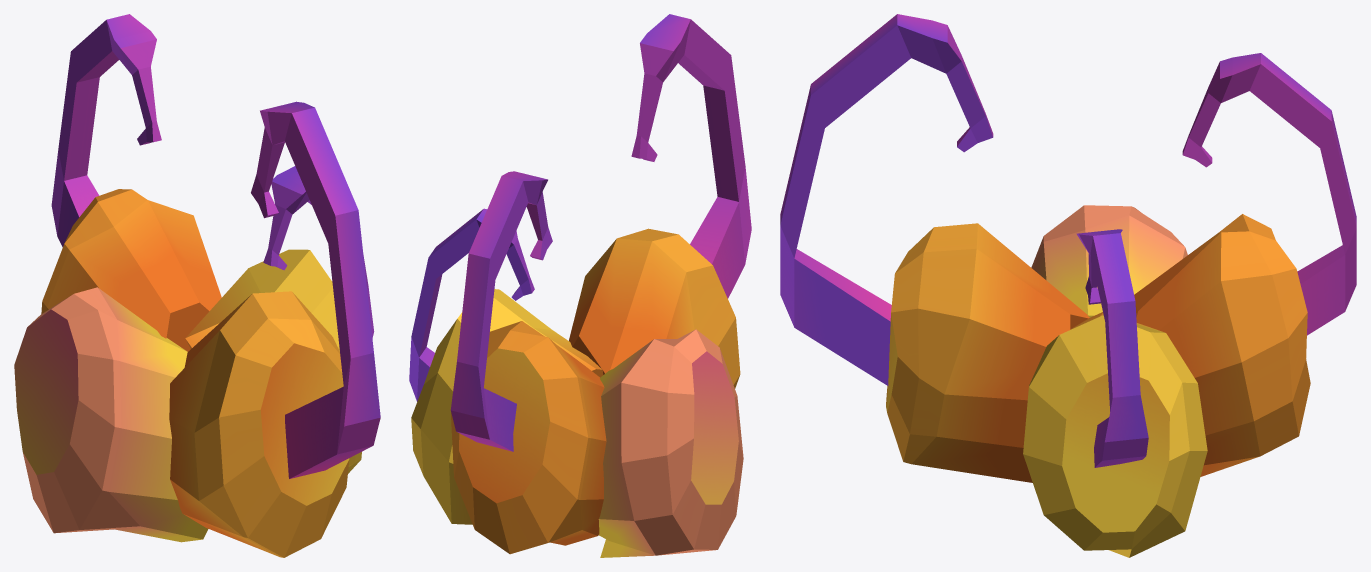
Rendered from SM_Plant_A.fbx.
The picture shows the model from 3 angles, left to right: view 1: azimuth 30°, elevation 25°; view 2: azimuth 150°, elevation 25°; view 3: azimuth 270°, elevation 25°; orthographic projection. The views are drawn at different scales.
Parts seen in each view (by area): view 1: Cylinder.006, Cylinder.005, Cube.010, Cylinder.004, Cube.011, Cylinder.007, Cube.009; view 2: Cylinder.006, Cylinder.004, Cylinder.005, Cube.010, Cube.011, Cylinder.007, Cube.009; view 3: Cylinder.005, Cylinder.007, Cylinder.004, Cube.010, Cube.011, Cube.009, Cylinder.006.
Part boxes in pixels (x1=…): Cylinder.006: x1=14, y1=287, x2=208, y2=542; Cylinder.005: x1=169, y1=291, x2=349, y2=557; Cube.010: x1=251, y1=101, x2=380, y2=478; Cylinder.004: x1=41, y1=189, x2=221, y2=351; Cube.011: x1=51, y1=14, x2=161, y2=247; Cylinder.007: x1=185, y1=249, x2=361, y2=473; Cube.009: x1=263, y1=166, x2=374, y2=338; Cylinder.006: x1=598, y1=329, x2=743, y2=557; Cylinder.004: x1=451, y1=321, x2=606, y2=554; Cylinder.005: x1=569, y1=228, x2=740, y2=388; Cube.010: x1=631, y1=14, x2=751, y2=298; Cube.011: x1=450, y1=171, x2=552, y2=451; Cylinder.007: x1=411, y1=289, x2=603, y2=524; Cube.009: x1=409, y1=208, x2=534, y2=401; Cylinder.005: x1=886, y1=223, x2=1089, y2=482; Cylinder.007: x1=1023, y1=312, x2=1207, y2=557; Cylinder.004: x1=1134, y1=214, x2=1310, y2=476; Cube.010: x1=780, y1=14, x2=993, y2=385; Cube.011: x1=1182, y1=53, x2=1356, y2=335; Cube.009: x1=1076, y1=229, x2=1148, y2=467; Cylinder.006: x1=1031, y1=205, x2=1187, y2=317.
Bounding box in the file's own units: 51.32 × 33.77 × 49.11.
